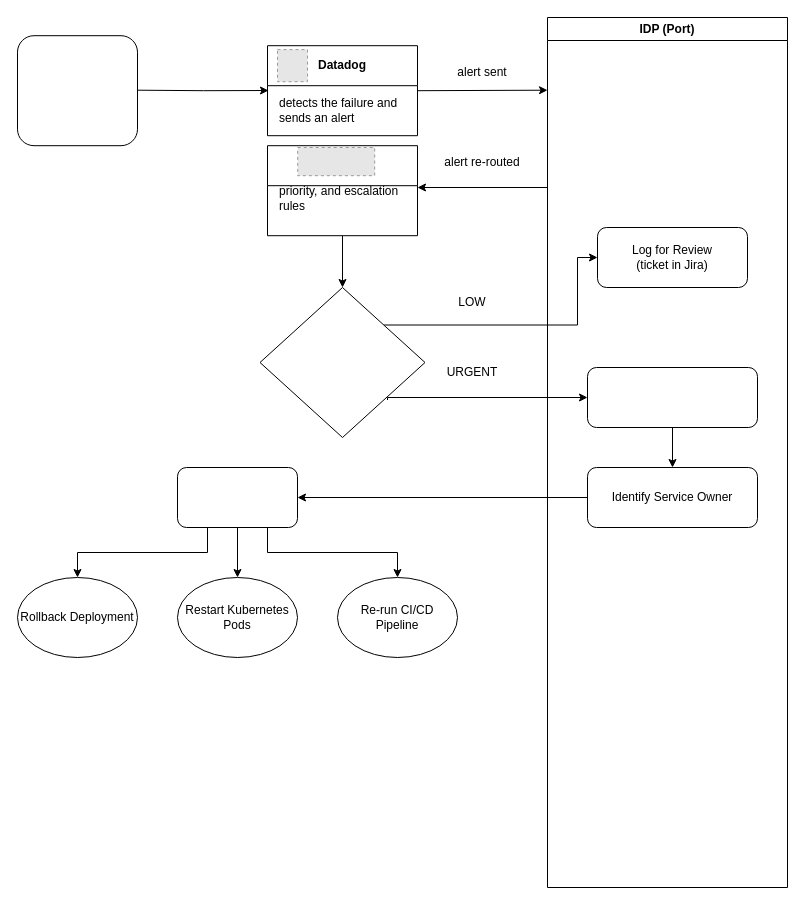
This 805x905 diagram has some shape labels left out. Grey dashed boxes stand in for pictures. The centre of each missing label's shape, as x and y in pixels:
Phase 1 Incident Detected (e.g. Service Failure) Developers DevOps Eng SREs: the point at 77,90
Severity Assessment: the point at 342,362
Trigger Automated Playbook: the point at 237,497
Trigger Escalation: the point at 672,397
